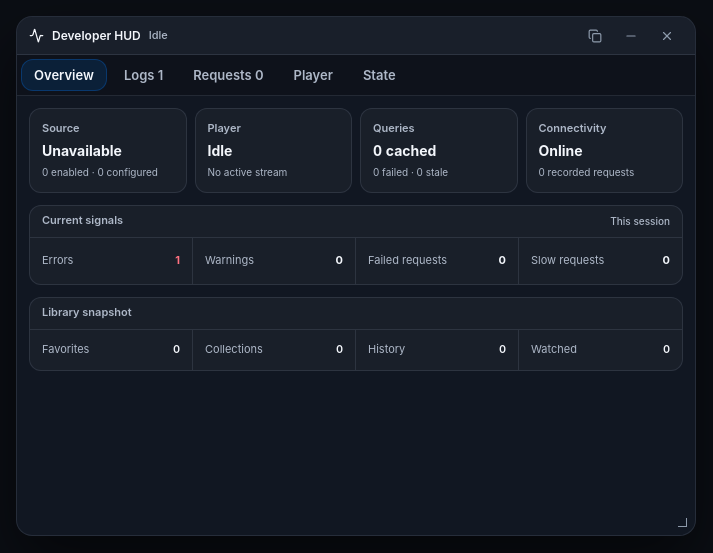
Test case: Developer HUD › navigates from overview error totals into filtered logs
Click the button "Errors 1" at point(112, 261), box [30, 238, 193, 284]
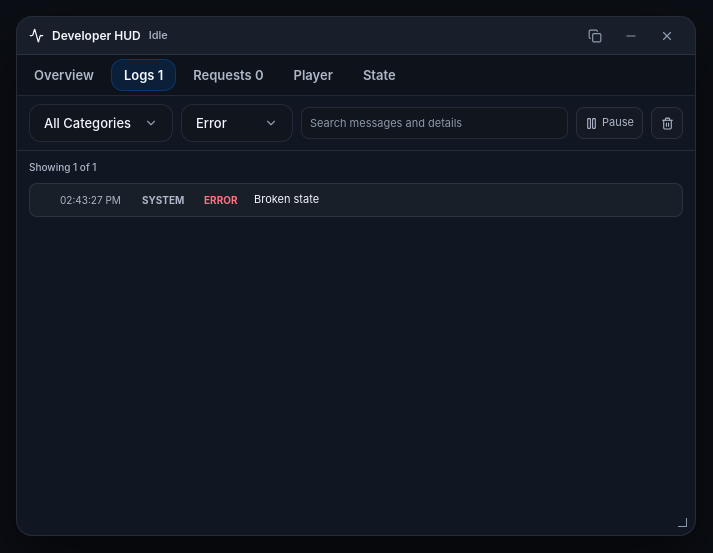
Expected: the button "Error" is shown, [181, 104, 293, 142]
Expected: the text "Broken state" is shown, [254, 192, 319, 206]
